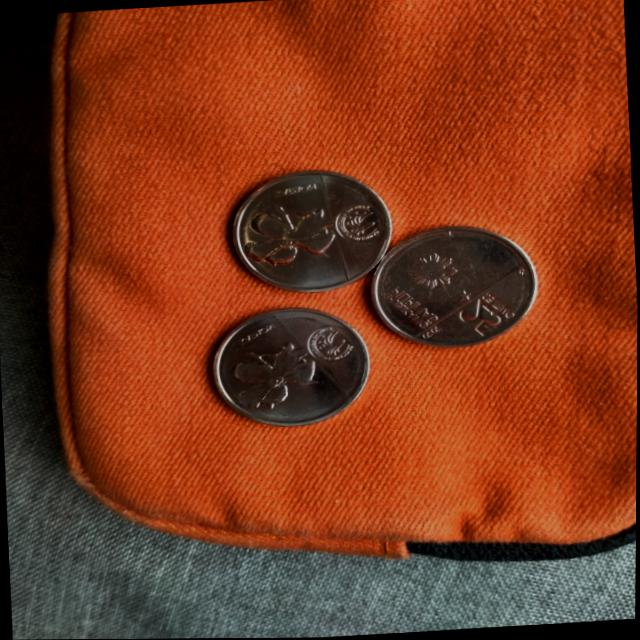25Cent_New_Back: (221, 333, 321, 412), (240, 203, 336, 272)
25Cent_New_Front: (451, 289, 521, 338)
